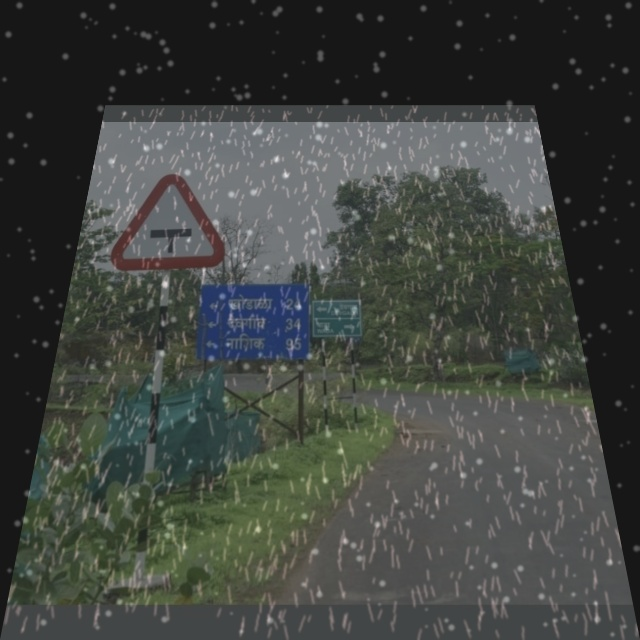T_Intersection: (108, 168, 236, 275)
